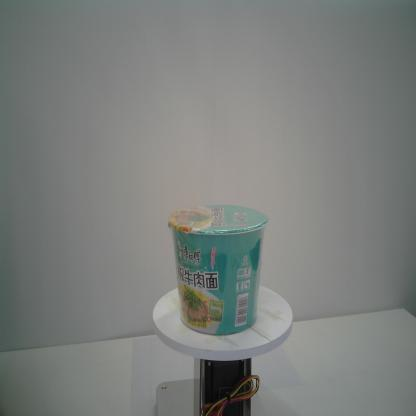Instant Noodles: (168, 203, 268, 337)
